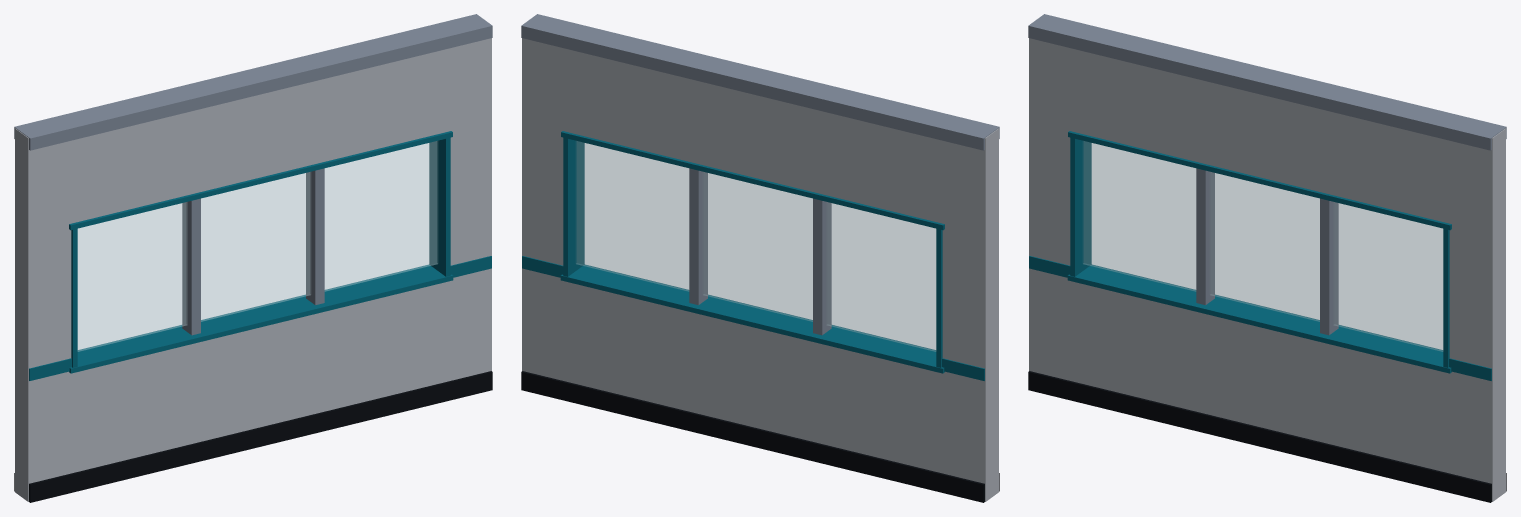
File: SM_Wall_Window_4x3.glb
3 views of the same model, side by side, from view 1: azimuth 30°, elevation 25°; view 2: azimuth 150°, elevation 25°; view 3: azimuth 330°, elevation 25° (orthographic).
Visible parts, largest first — view 1: SM_Wall_Window_4x3-col; view 2: SM_Wall_Window_4x3-col; view 3: SM_Wall_Window_4x3-col.
Part boxes in pixels (<box>): SM_Wall_Window_4x3-col: <box>14,14,492,502</box>; SM_Wall_Window_4x3-col: <box>521,14,999,502</box>; SM_Wall_Window_4x3-col: <box>1028,14,1506,502</box>.
Size of the model in its own units: 4 by 3 by 0.26.
